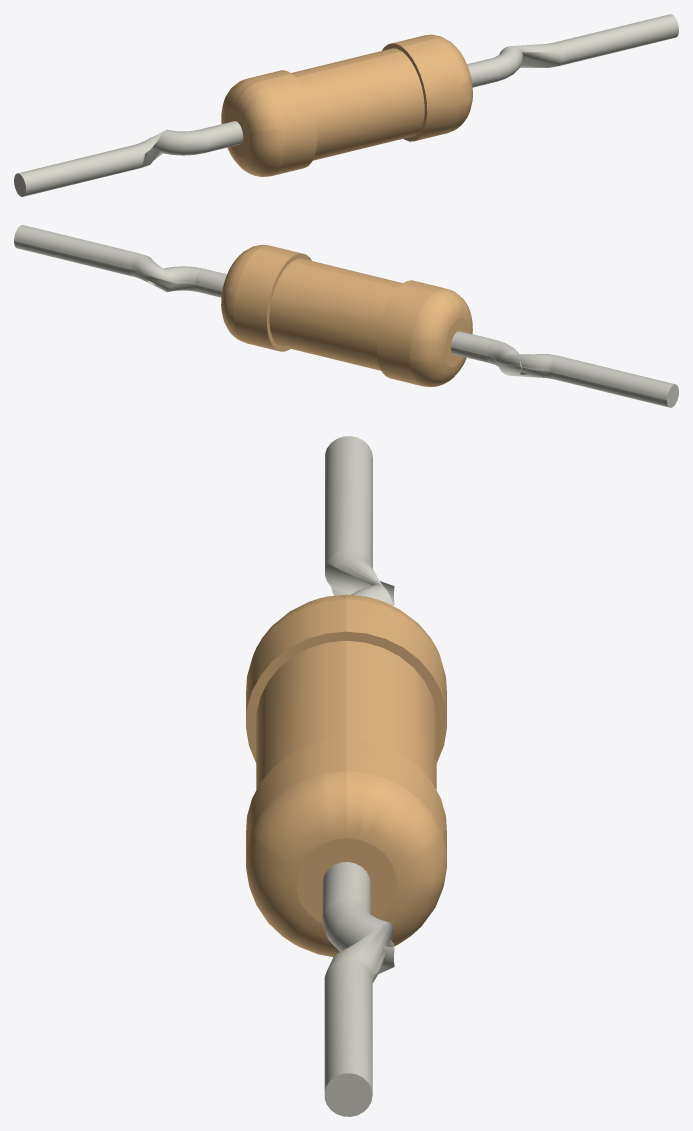
Rendered from resistor.glb.
The picture shows the model from 3 angles, top to bottom: view 1: azimuth 30°, elevation 25°; view 2: azimuth 150°, elevation 25°; view 3: azimuth 270°, elevation 25°; orthographic projection. The views are drawn at different scales.
Visible parts, largest first — view 1: gold, metal-0.6; view 2: gold, metal-0.6; view 3: gold, metal-0.6.
Part boxes in pixels (left/top/right/bottom): gold: left=221, top=34, right=472, bottom=176; metal-0.6: left=14, top=14, right=678, bottom=196; gold: left=221, top=244, right=472, bottom=386; metal-0.6: left=14, top=225, right=678, bottom=407; gold: left=246, top=594, right=446, bottom=956; metal-0.6: left=322, top=436, right=394, bottom=1116.
Bounding box in the file's own units: 18.71 × 2.49 × 2.5.
